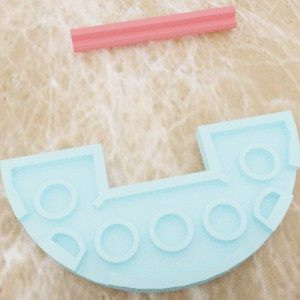lego: (0, 110, 299, 292), (69, 5, 237, 52)
